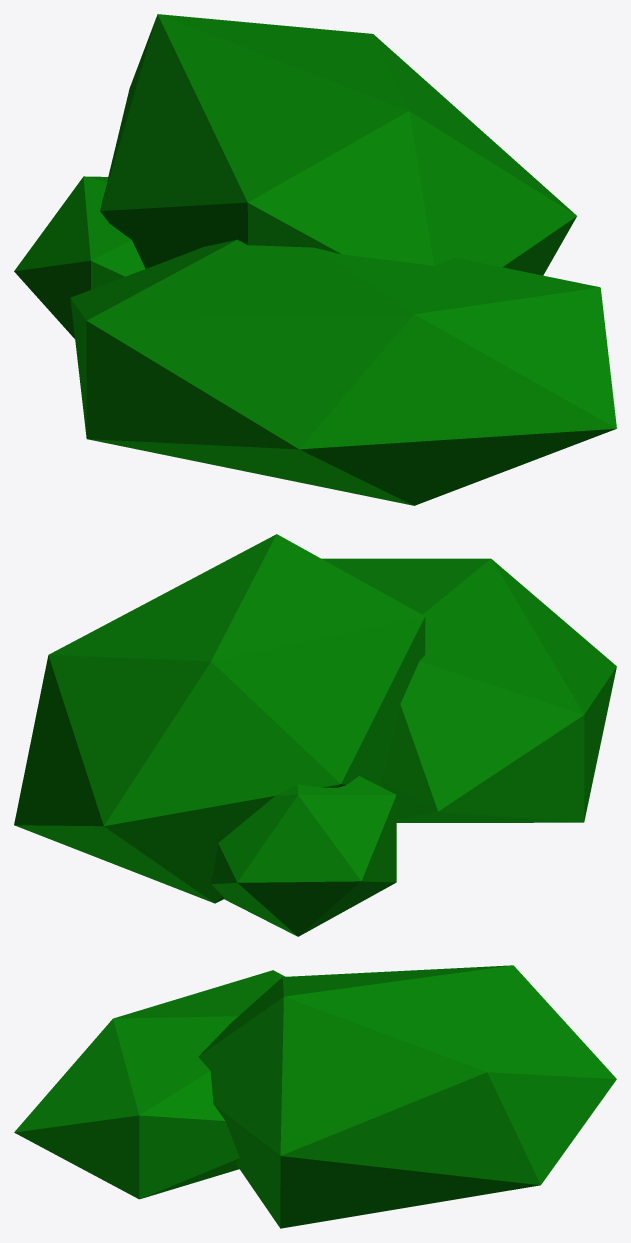
Rendered from Arbusto.fbx.
The picture shows the model from 3 angles, top to bottom: view 1: azimuth 30°, elevation 25°; view 2: azimuth 150°, elevation 25°; view 3: azimuth 270°, elevation 25°; orthographic projection. The views are drawn at different scales.
Parts seen in each view (by area): view 1: pPlatonic4; view 2: pPlatonic4; view 3: pPlatonic4.
Boxes of the visible parts, x1,y1,x2,y2 form: pPlatonic4: (14, 14, 616, 505); pPlatonic4: (14, 534, 616, 936); pPlatonic4: (14, 965, 616, 1228).
Bounding box in the file's own units: 6.32 × 3.6 × 9.38.
